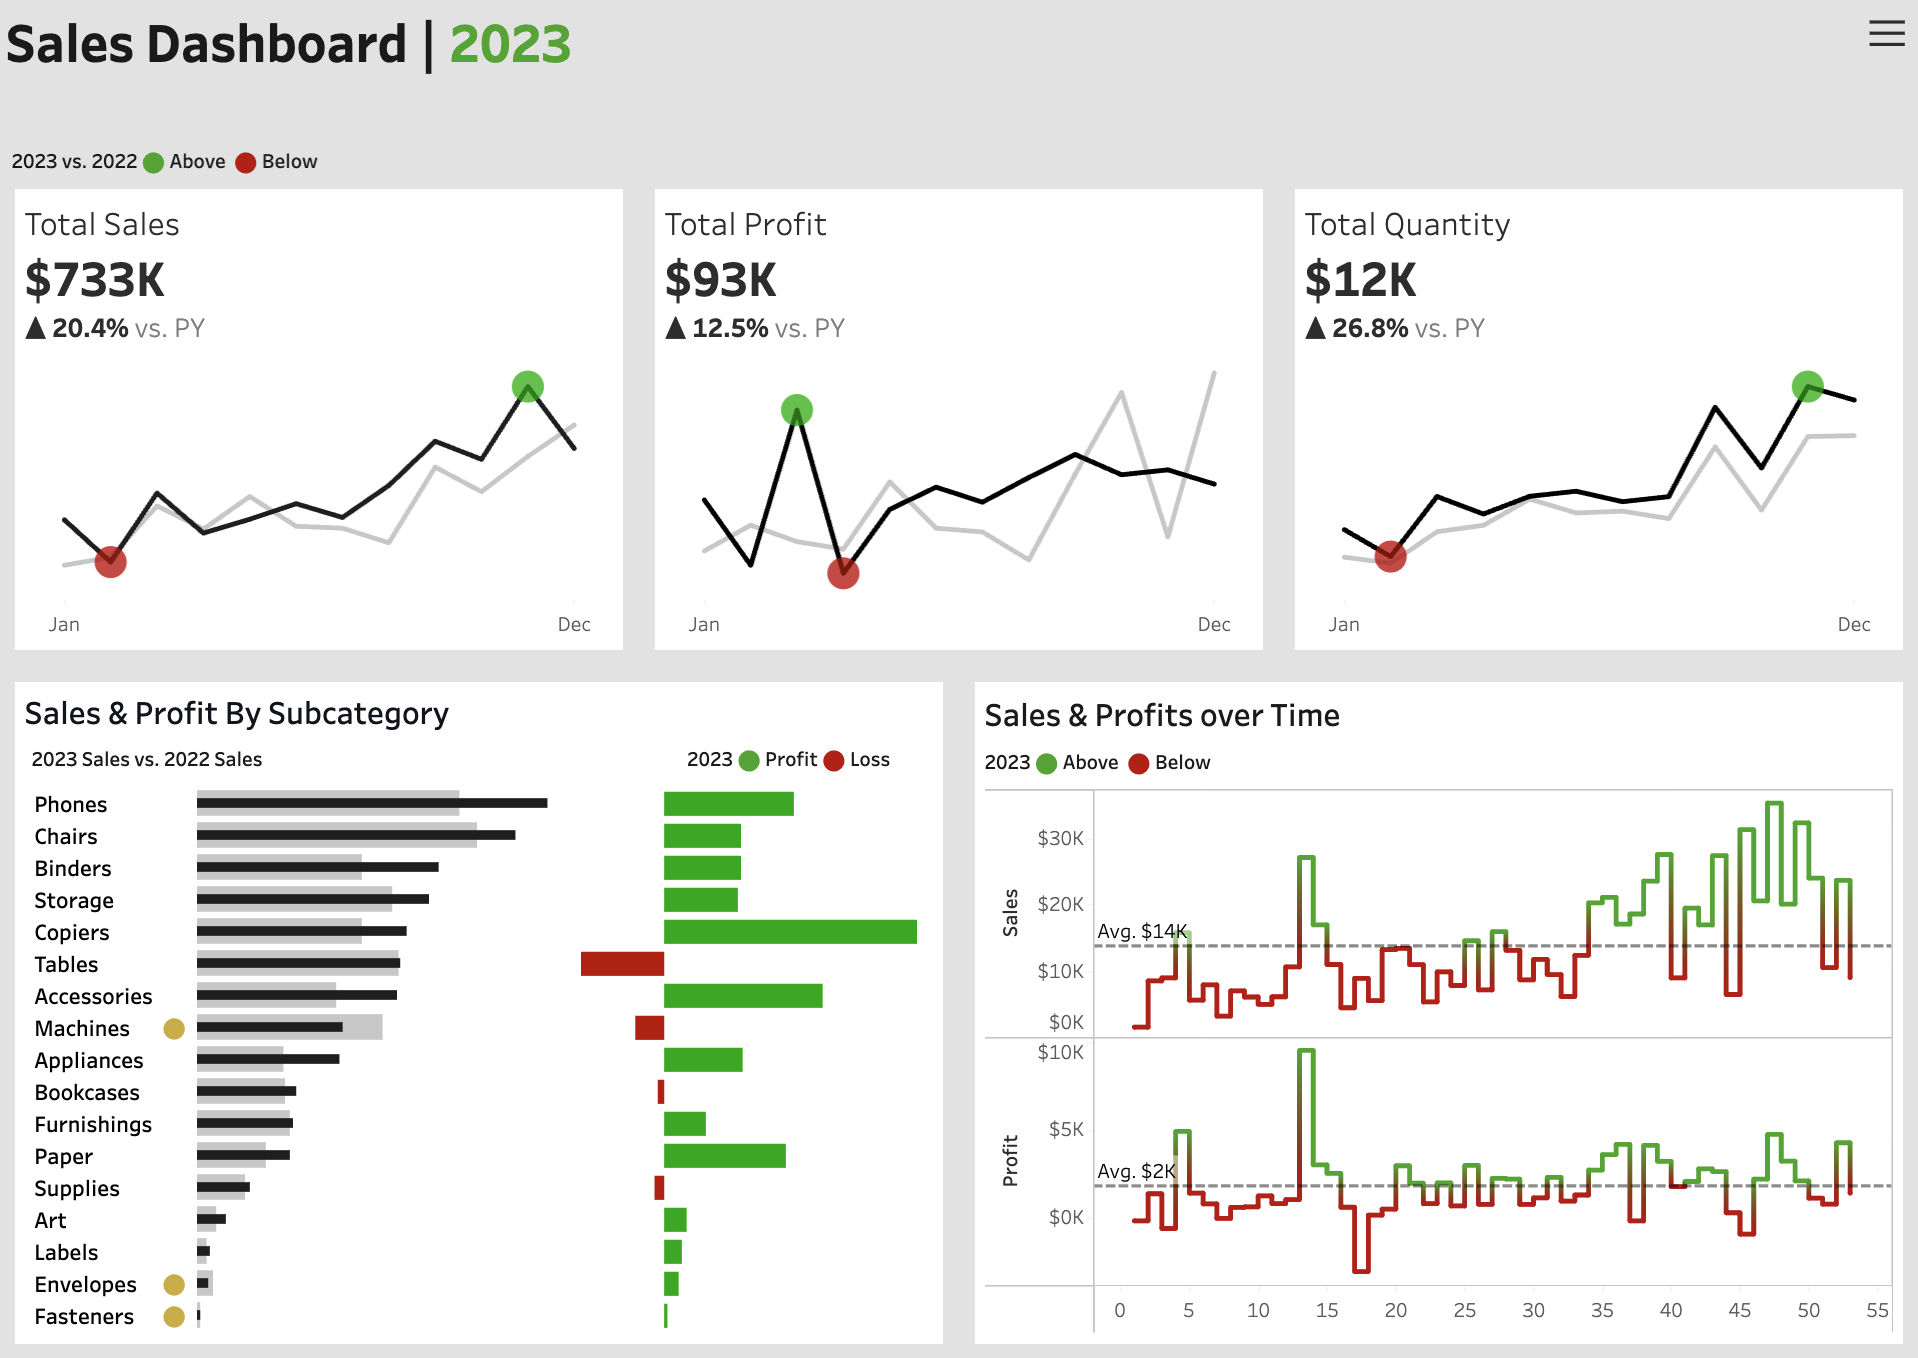

Layout of this report page (visuals, bound fields, positions):
{"tool":"tableau","page":{"name":"Sales Dashboard","canvas":[1200,850],"ordinal":0},"visuals":[{"type":"text","box":[0,0,1200,52]},{"type":"dashboard-object","box":[1168,8,24,26]},{"type":"text","box":[961,13,226,31]},{"type":"parameter","param":"[Parameters].[Parameter 1]","box":[961,44,226,52]},{"type":"worksheet","title":"Legend of KPI","mark":"Automatic","box":[0,82,1200,36]},{"type":"text","box":[961,96,226,25]},{"type":"worksheet","title":"KPI Sales","mark":"Automatic","rows":["Calculation_721701895347843083"],"cols":["Order Date"],"box":[0,118,400,298]},{"type":"worksheet","title":"KPI Profit","mark":"Automatic","rows":["Min/Max Sales (copy)_237846410425847814"],"cols":["Order Date"],"box":[400,118,400,298]},{"type":"worksheet","title":"KPI Quantity","mark":"Automatic","rows":["Min/Max Sales (copy) (copy)_237846410425856007"],"cols":["Order Date"],"box":[800,118,400,298]},{"type":"filter","title":"KPI Sales","param":"[federated.1kpxa041aiai2y1cl4pui1t4eju9].[none:Category:nk]","box":[961,121,226,52]},{"type":"filter","title":"KPI Sales","param":"[federated.1kpxa041aiai2y1cl4pui1t4eju9].[none:Sub-Category:nk]","box":[961,173,226,48]},{"type":"text","box":[961,221,226,25]},{"type":"filter","title":"KPI Sales","param":"[federated.1kpxa041aiai2y1cl4pui1t4eju9].[none:Region:nk]","box":[961,246,226,52]},{"type":"filter","title":"KPI Sales","param":"[federated.1kpxa041aiai2y1cl4pui1t4eju9].[none:State:nk]","box":[961,298,226,52]},{"type":"filter","title":"KPI Sales","param":"[federated.1kpxa041aiai2y1cl4pui1t4eju9].[none:City:nk]","box":[961,350,226,32]},{"type":"legend","title":"KPI Sales","param":"[federated.1kpxa041aiai2y1cl4pui1t4eju9].[:Measure Names]","box":[961,382,226,65]},{"type":"text","box":[12,428,576,32]},{"type":"text","box":[612,428,576,34]},{"type":"legend","title":"KPI Sales","param":"[federated.1kpxa041aiai2y1cl4pui1t4eju9].[usr:Calculation_721701895347843083:qk]","box":[961,447,226,65]},{"type":"worksheet","title":"Legend of Subcategory","mark":"Automatic","box":[12,460,414,28]},{"type":"text","box":[426,460,162,28]},{"type":"text","box":[612,462,576,25]},{"type":"worksheet","title":"Weekly Trends","mark":"Automatic","rows":["Calculation_721701895334993921","CY Sales (copy)_237846410424180736"],"cols":["Order Date"],"box":[612,487,576,351]},{"type":"worksheet","title":"Subcategory Comparison","mark":"Bar","rows":["Sub-Category","Calculation_2435040078806671369"],"cols":["CY Sales (copy)_721701895335804930","Calculation_721701895334993921","CY Sales (copy)_237846410424180736"],"box":[12,488,576,350]},{"type":"legend","title":"KPI Profit","param":"[federated.1kpxa041aiai2y1cl4pui1t4eju9].[usr:Min/Max Sales (copy)_2378464104258","box":[961,512,226,65]},{"type":"legend","title":"KPI Quantity","param":"[federated.1kpxa041aiai2y1cl4pui1t4eju9].[usr:Min/Max Sales (copy) (copy)_237846","box":[961,577,226,65]},{"type":"legend","title":"Subcategory Comparison","param":"[federated.1kpxa041aiai2y1cl4pui1t4eju9].[sum:CY Sales (copy)_237846410424180736","box":[961,642,226,65]},{"type":"legend","title":"Weekly Trends","param":"[federated.1kpxa041aiai2y1cl4pui1t4eju9].[usr:Calculation_2435040078825054219:nk","box":[961,707,226,65]},{"type":"legend","title":"Weekly Trends","param":"[federated.1kpxa041aiai2y1cl4pui1t4eju9].[usr:KPI Sales Avg (copy)_2435040078826","box":[961,772,226,65]}]}

Visuals, with their boxes in screenshot pixels (x1, y1, x2, y2), scaled from the page's 1200x850 canvas onto the 1918x1358 screenshot:
text: x1=0 y1=0 x2=1917 y2=83
dashboard-object: x1=1867 y1=13 x2=1905 y2=54
text: x1=1536 y1=21 x2=1897 y2=70
parameter: x1=1536 y1=70 x2=1897 y2=153
"Legend of KPI" worksheet: x1=0 y1=131 x2=1917 y2=189
text: x1=1536 y1=153 x2=1897 y2=193
"KPI Sales" worksheet: x1=0 y1=189 x2=639 y2=665
"KPI Profit" worksheet: x1=639 y1=189 x2=1279 y2=665
"KPI Quantity" worksheet: x1=1279 y1=189 x2=1917 y2=665
"KPI Sales" filter: x1=1536 y1=193 x2=1897 y2=276
"KPI Sales" filter: x1=1536 y1=276 x2=1897 y2=353
text: x1=1536 y1=353 x2=1897 y2=393
"KPI Sales" filter: x1=1536 y1=393 x2=1897 y2=476
"KPI Sales" filter: x1=1536 y1=476 x2=1897 y2=559
"KPI Sales" filter: x1=1536 y1=559 x2=1897 y2=610
"KPI Sales" legend: x1=1536 y1=610 x2=1897 y2=714
text: x1=19 y1=684 x2=940 y2=735
text: x1=978 y1=684 x2=1899 y2=738
"KPI Sales" legend: x1=1536 y1=714 x2=1897 y2=818
"Legend of Subcategory" worksheet: x1=19 y1=735 x2=681 y2=780
text: x1=681 y1=735 x2=940 y2=780
text: x1=978 y1=738 x2=1899 y2=778
"Weekly Trends" worksheet: x1=978 y1=778 x2=1899 y2=1339
"Subcategory Comparison" worksheet (Bar marks): x1=19 y1=780 x2=940 y2=1339
"KPI Profit" legend: x1=1536 y1=818 x2=1897 y2=922
"KPI Quantity" legend: x1=1536 y1=922 x2=1897 y2=1026
"Subcategory Comparison" legend: x1=1536 y1=1026 x2=1897 y2=1130
"Weekly Trends" legend: x1=1536 y1=1130 x2=1897 y2=1233
"Weekly Trends" legend: x1=1536 y1=1233 x2=1897 y2=1337
